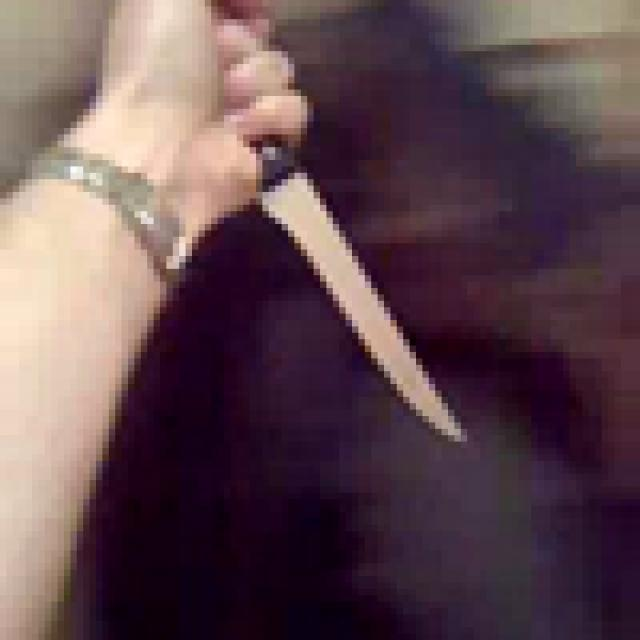weapon: (154, 19, 474, 474)
